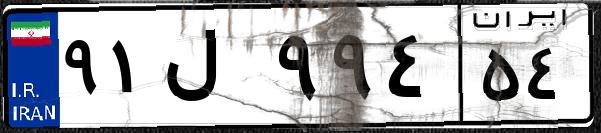1: (110, 28, 158, 98)
4: (385, 28, 445, 110), (525, 38, 570, 115)
5: (475, 38, 525, 113)
9: (270, 28, 330, 110), (330, 28, 385, 110), (57, 26, 110, 100)
ل: (158, 20, 270, 120)
